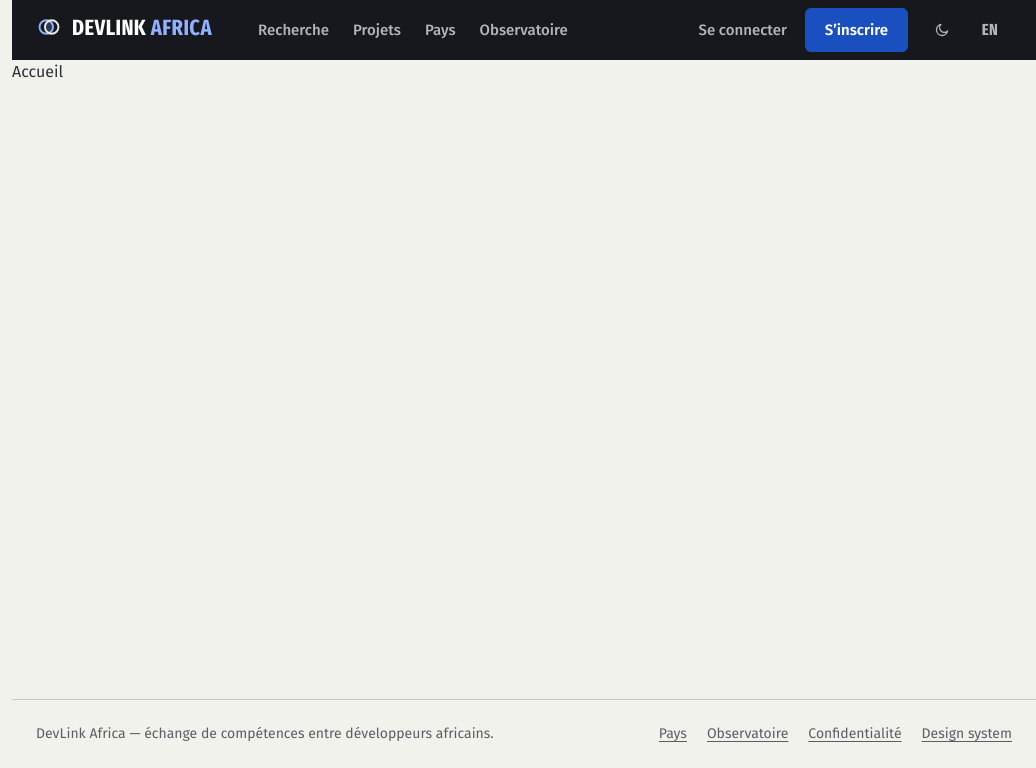
it: mise en page › passe l’interface en anglais et retient ce choix
Click the button with aria-label "Switch to English": (990, 30) [968,8,1012,52]
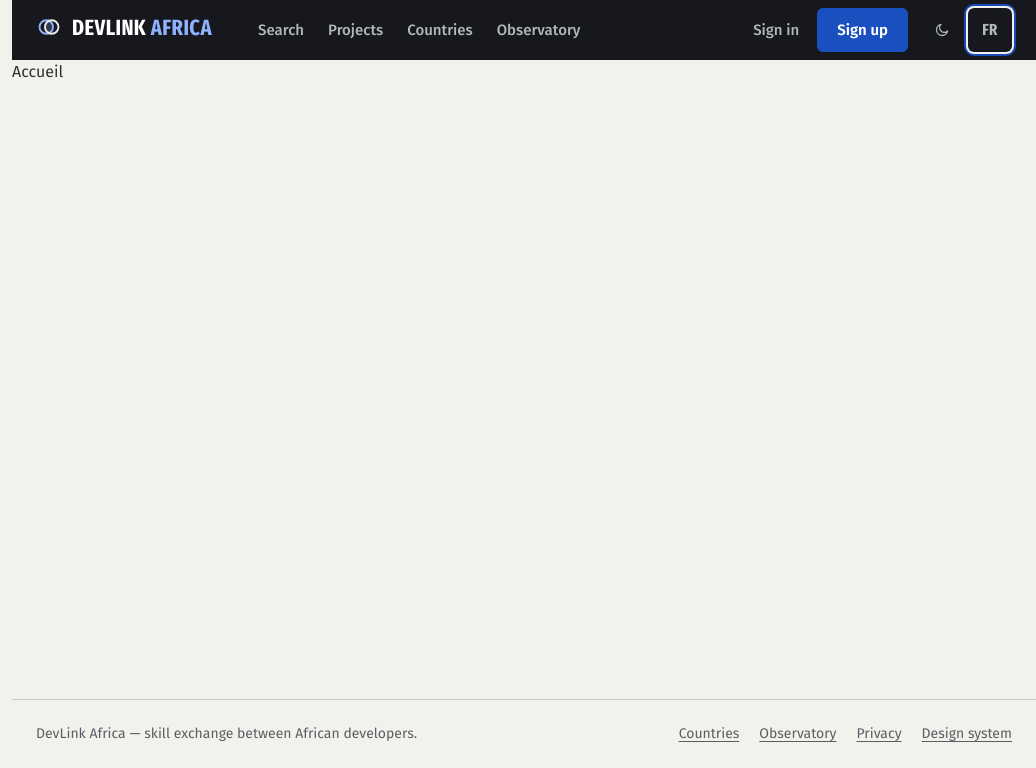
Check: the link "Sign in" is shown, box [753,21,799,39]
Check: the navigation bar named "Main navigation" is shown, box [258,21,580,39]
Click the button with aria-label "Passer en français": (990, 30) [968,8,1012,52]
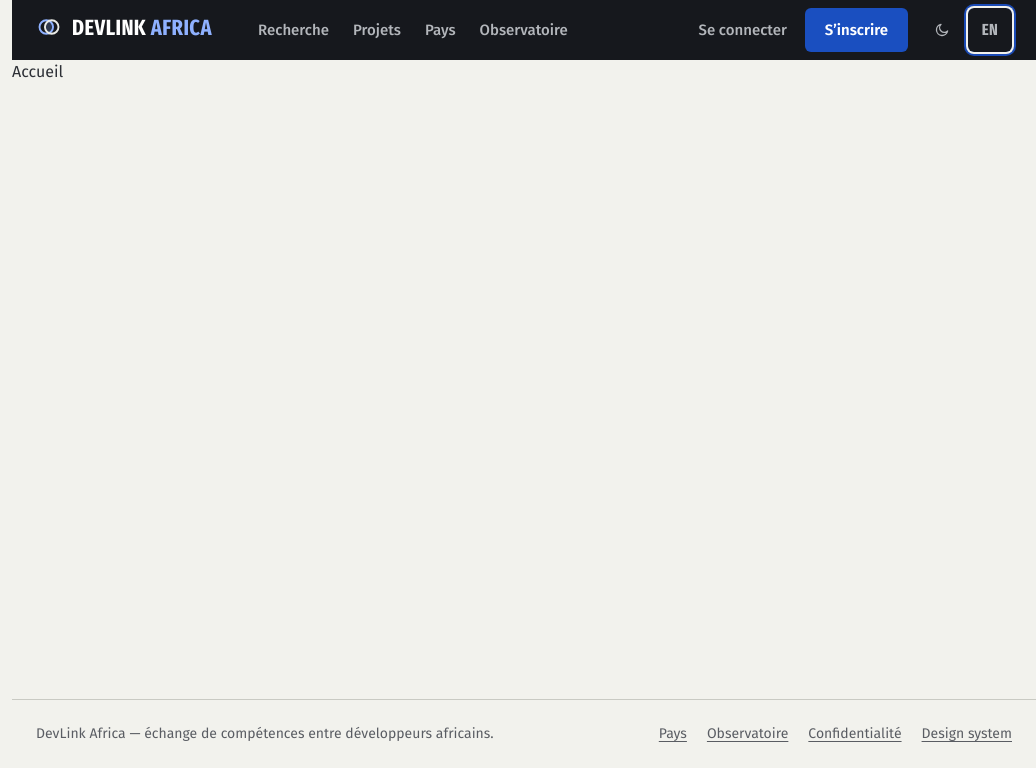
Check: the link "Se connecter" is shown, box [698,21,787,39]
